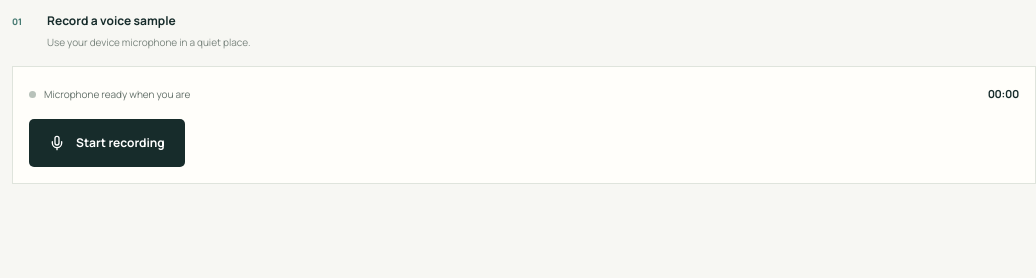
AudioRecorder › requests permission, records, stops tracks, and exposes playback and re-record controls
Step 1. Click the button "Start recording" → click(107, 143), box [29,119,185,167]
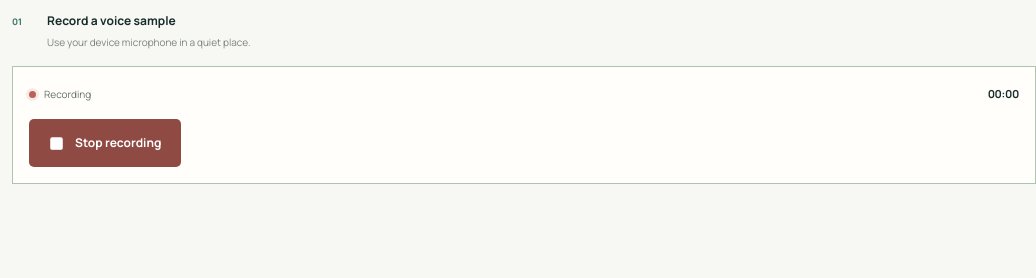
Now the text "Recording" is shown, box [44,86,91,102]
Step 2. Click the button "Stop recording" → click(105, 143), box [29,119,181,167]
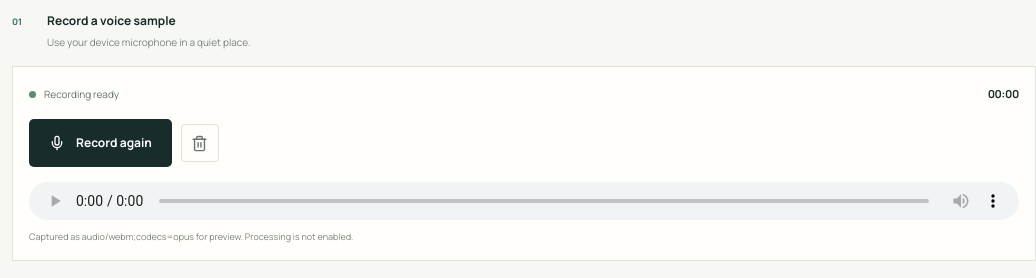
Now the text "Recording ready" is shown, box [44,86,119,102]
Now the element named "Preview recorded voice" is shown, box [29,182,1019,220]
Now the button "Record again" is shown, box [29,119,172,167]
